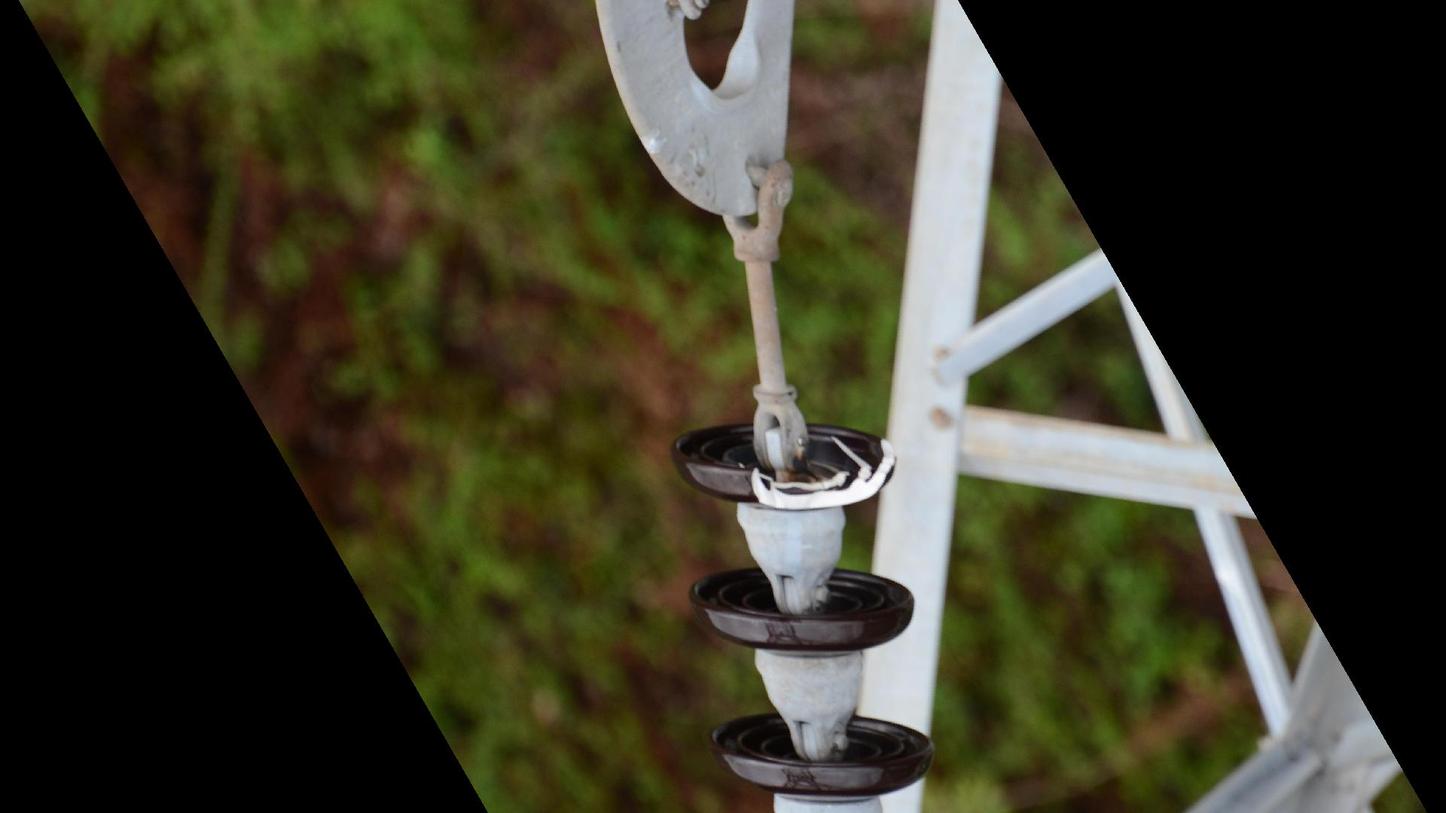insulator: (662, 416, 944, 813)
insulator_breakage: (737, 431, 903, 521)
